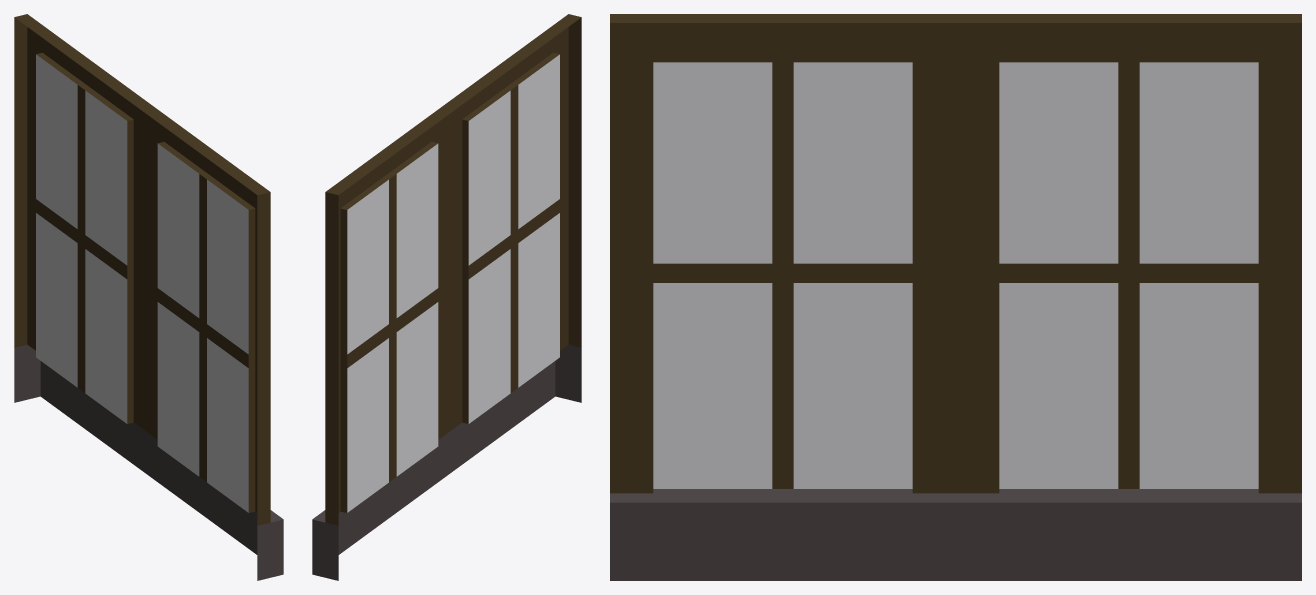
File: model_loc_1826_q.obj
3 views of the same model, side by side, from view 1: azimuth 30°, elevation 25°; view 2: azimuth 150°, elevation 25°; view 3: azimuth 270°, elevation 25° (orthographic). The views are drawn at different scales.
Parts seen in each view (by area): view 1: 2129; view 2: 2129; view 3: 2129.
Boxes of the visible parts, box(x1,y1,x2,y2) form: 2129: box(14, 14, 283, 580); 2129: box(312, 14, 581, 580); 2129: box(610, 14, 1301, 580).
Bounding box in the file's own units: 8 × 112 × 128.
